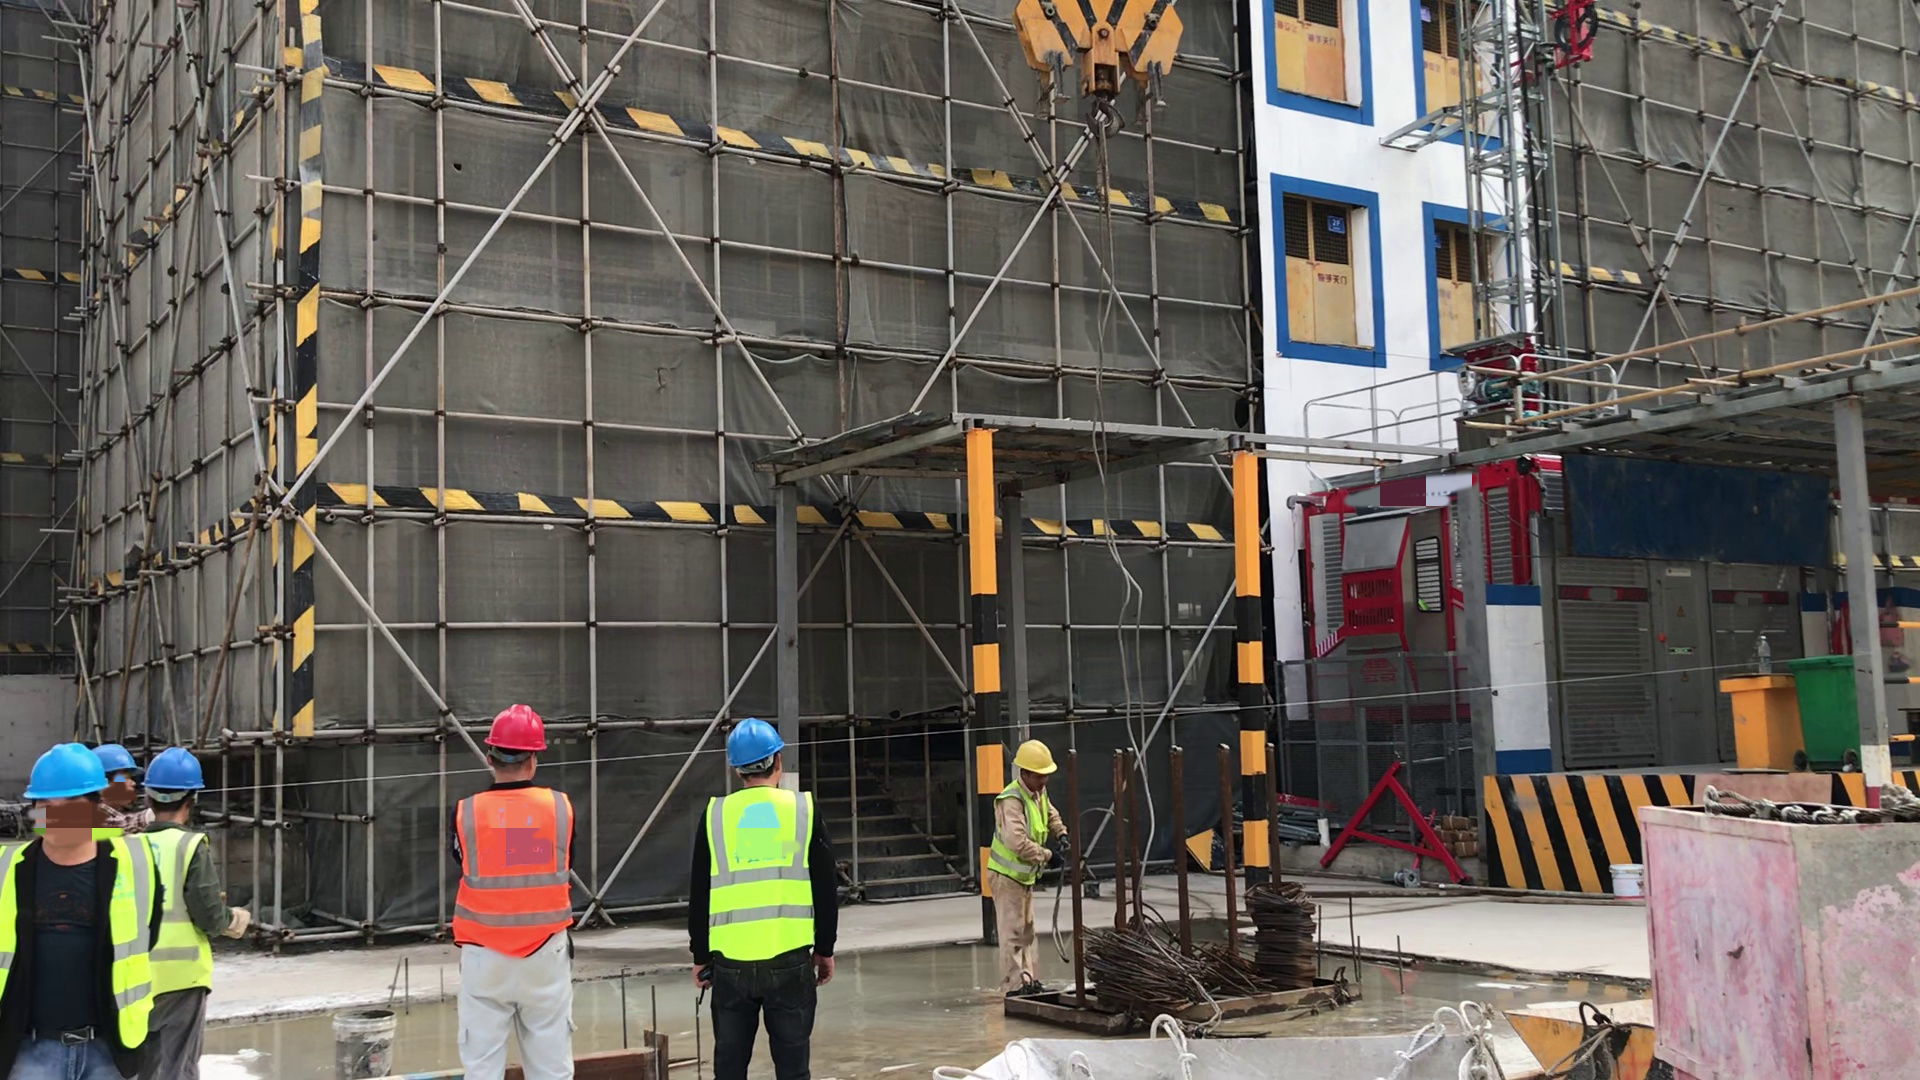ebox: (1725, 669, 1801, 765)
helmet: (23, 743, 107, 795), (484, 706, 549, 753), (725, 717, 785, 769), (146, 746, 205, 791), (96, 744, 137, 774)
hook: (1015, 1, 1183, 138)
hopper: (958, 1034, 1524, 1080), (1511, 995, 1663, 1080)
person: (694, 718, 836, 1080), (452, 704, 577, 1080), (4, 747, 144, 1080), (142, 751, 230, 1080), (989, 741, 1073, 1000)
vest: (1, 835, 144, 1045), (456, 788, 574, 957), (704, 792, 816, 961), (147, 824, 221, 995), (993, 787, 1051, 873)
